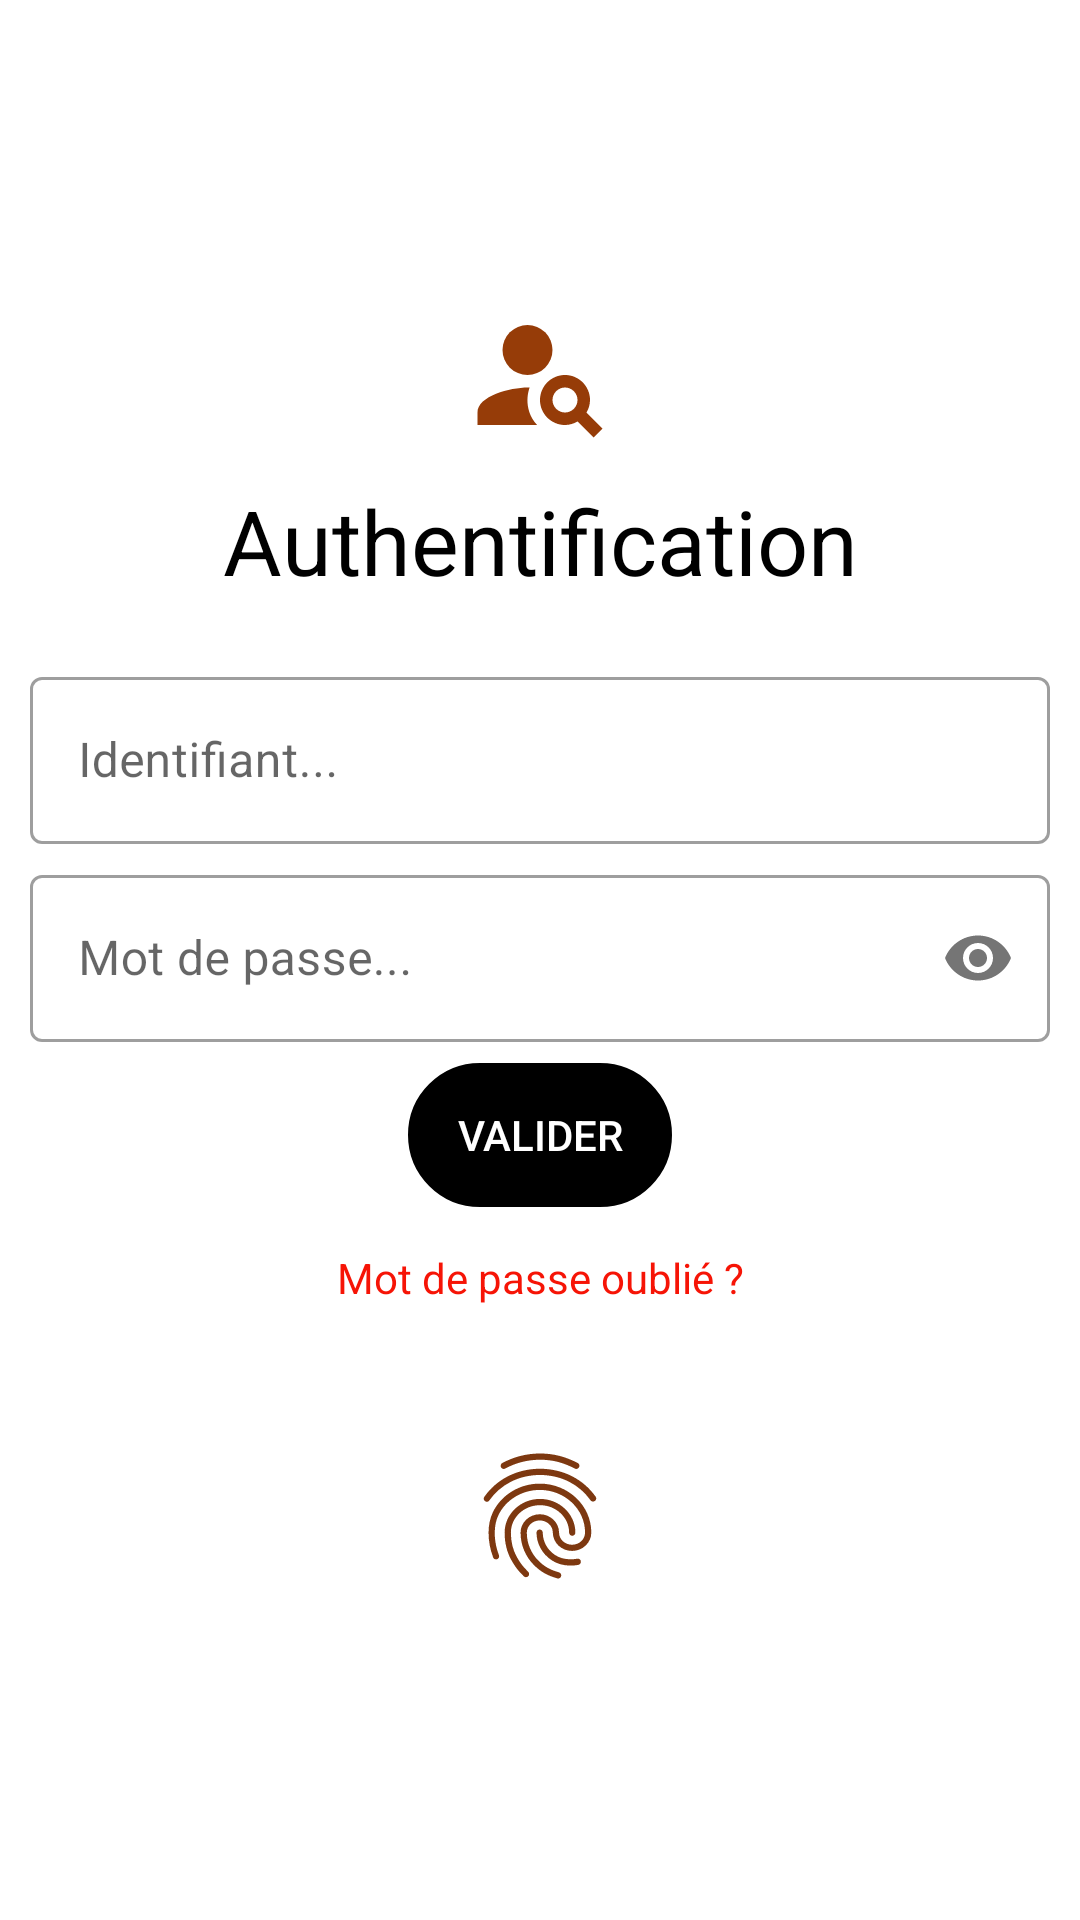

Named icons in this screenshot (1080px x 1920px) and their centers, (x,y):
capteur empreinte: (540,1516)
